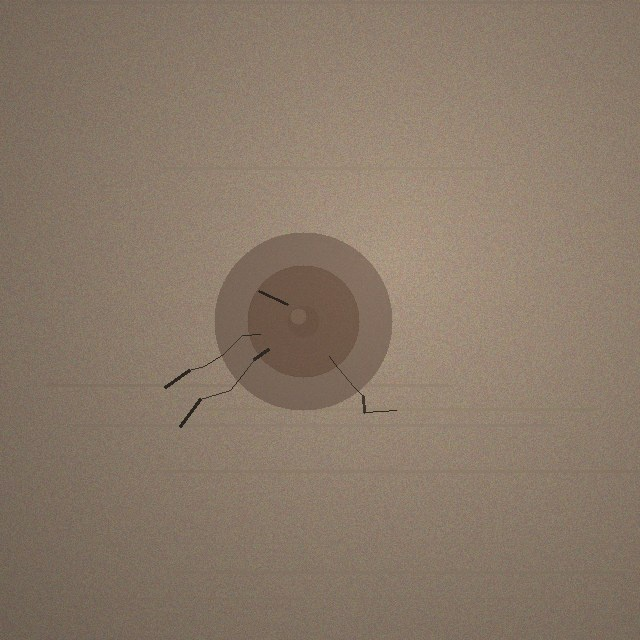crack: (214, 232, 392, 410)
